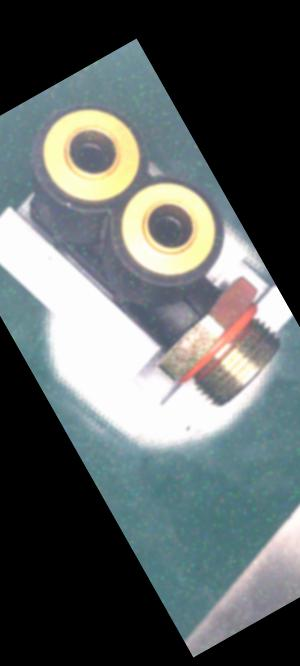craze: (180, 291, 204, 322)
